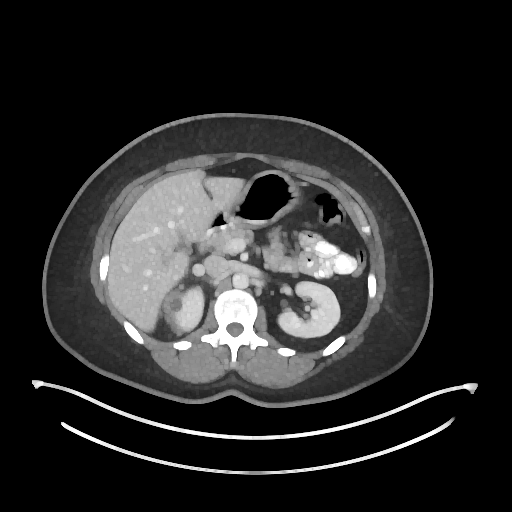Lesion: (171, 298, 184, 311)
